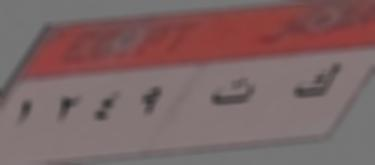1: (4, 97, 40, 132)
2: (53, 82, 84, 130)
4: (90, 85, 123, 131)
9: (131, 77, 172, 127)
kaaf: (282, 54, 344, 104)
taa: (204, 71, 258, 118)
